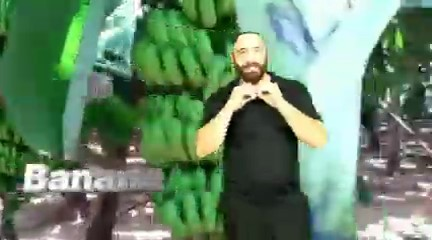B: (231, 77, 280, 112)
